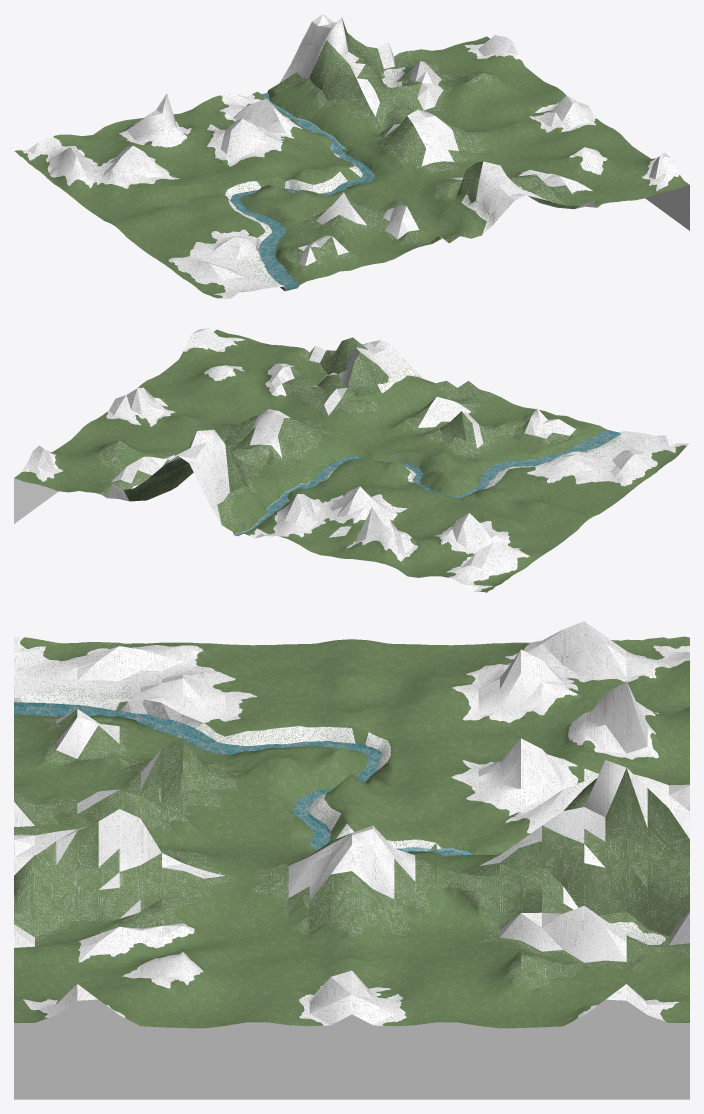
3 renders of one model, top to bottom at view 1: azimuth 30°, elevation 25°; view 2: azimuth 150°, elevation 25°; view 3: azimuth 270°, elevation 25°, orthographic. The views are drawn at different scales.
Parts seen in each view (by area): view 1: SketchUp (×27); view 2: SketchUp (×23); view 3: SketchUp (×24).
Part boxes in pixels (bbox=[...]): SketchUp (×27): bbox=[14, 14, 689, 299]; SketchUp (×23): bbox=[14, 328, 689, 592]; SketchUp (×24): bbox=[14, 621, 689, 1099].
Size of the model in its own units: 2053 by 1526 by 495.
Materials: 5 (4 with a texture image).
